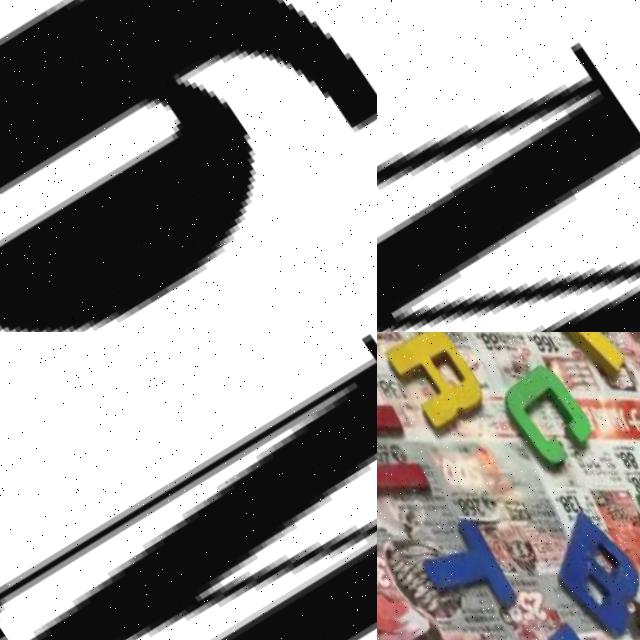6: (0, 0, 377, 332)
B: (530, 492, 640, 638)
C: (494, 350, 606, 475)
J: (377, 614, 499, 640)
L: (534, 332, 640, 381)
M: (0, 332, 377, 640), (377, 0, 640, 332)
N: (504, 602, 631, 640)
R: (377, 332, 498, 444)
T: (403, 495, 527, 634)
U: (377, 368, 442, 520)
